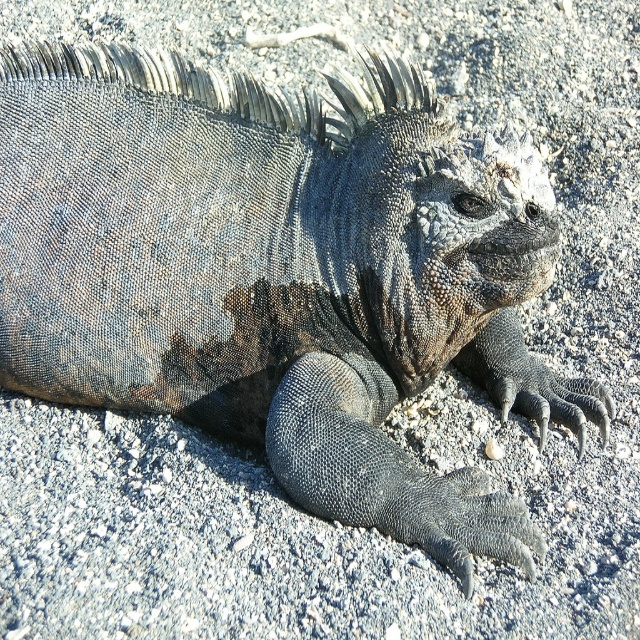Lizard: (0, 40, 616, 602)
